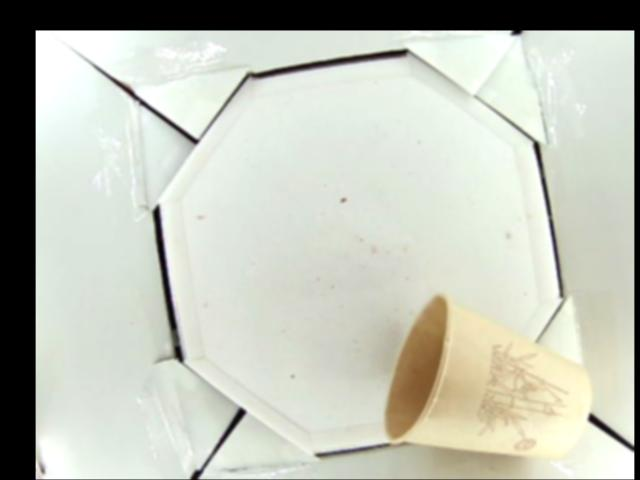Cup: (383, 293, 591, 459)
